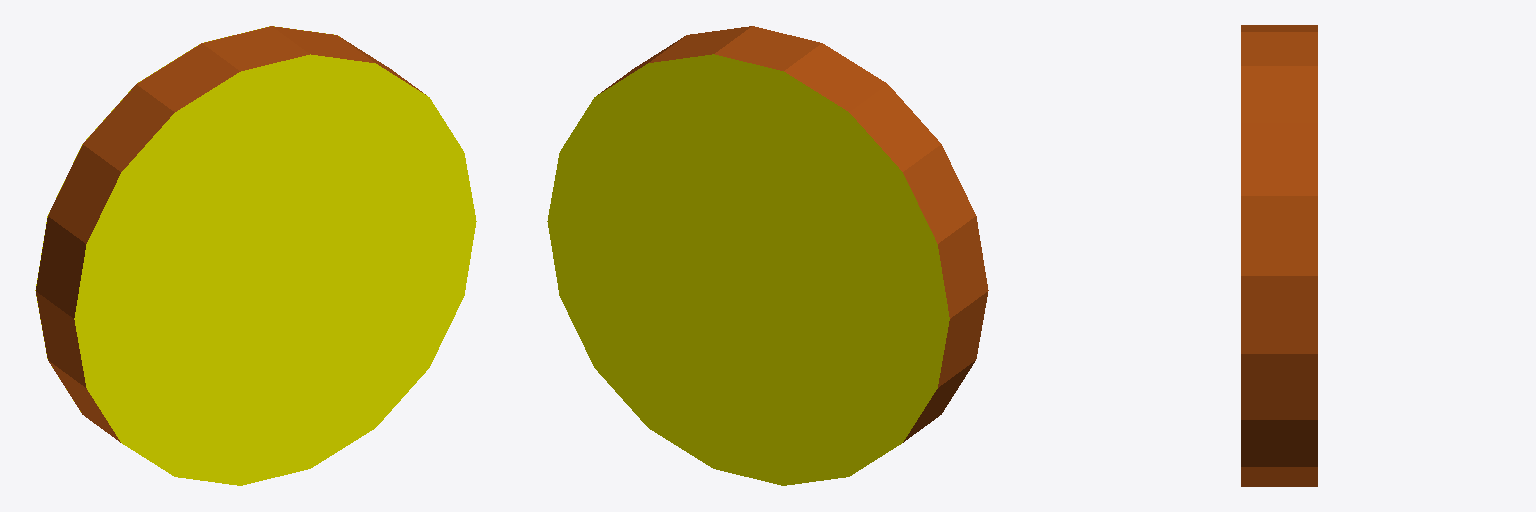
The model's file is coin.obj.
3 views of the same model, side by side, from view 1: azimuth 30°, elevation 25°; view 2: azimuth 150°, elevation 25°; view 3: azimuth 270°, elevation 25° (orthographic).
Visible parts, largest first — view 1: Object01, Cylinder01; view 2: Object02, Cylinder01; view 3: Cylinder01.
Part boxes in pixels (bbox=[...]): Object01: bbox=[74, 54, 476, 485]; Cylinder01: bbox=[36, 26, 425, 442]; Object02: bbox=[547, 54, 949, 485]; Cylinder01: bbox=[598, 26, 988, 442]; Cylinder01: bbox=[1241, 25, 1317, 486].
Size of the model in its own units: 0.4208 by 0.4144 by 0.0705.